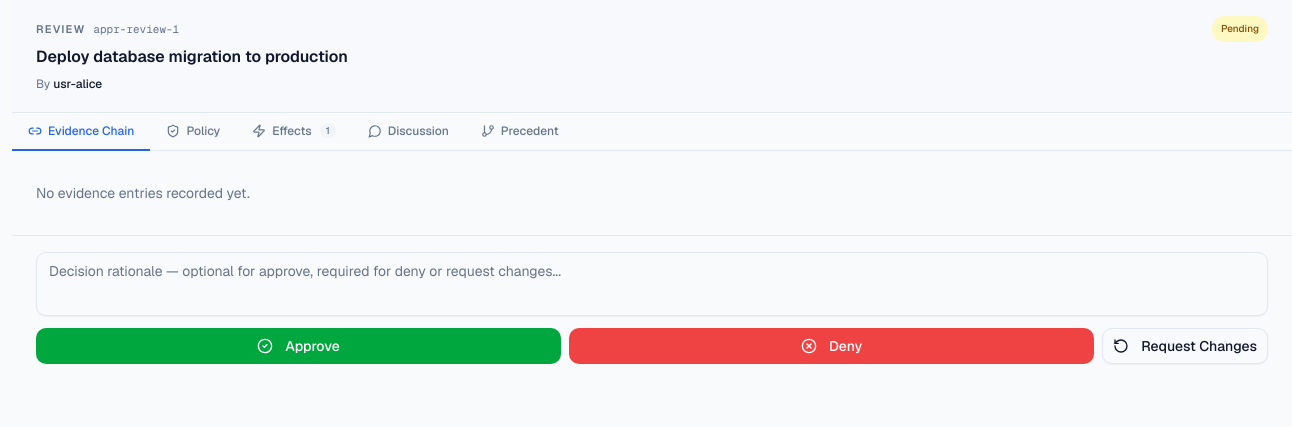
Test case: ApprovalReviewPanel — tabs › switches to effects tab and shows effects list
Click the tab "Effects 1".
click(294, 132)  # box [236,113,352,151]
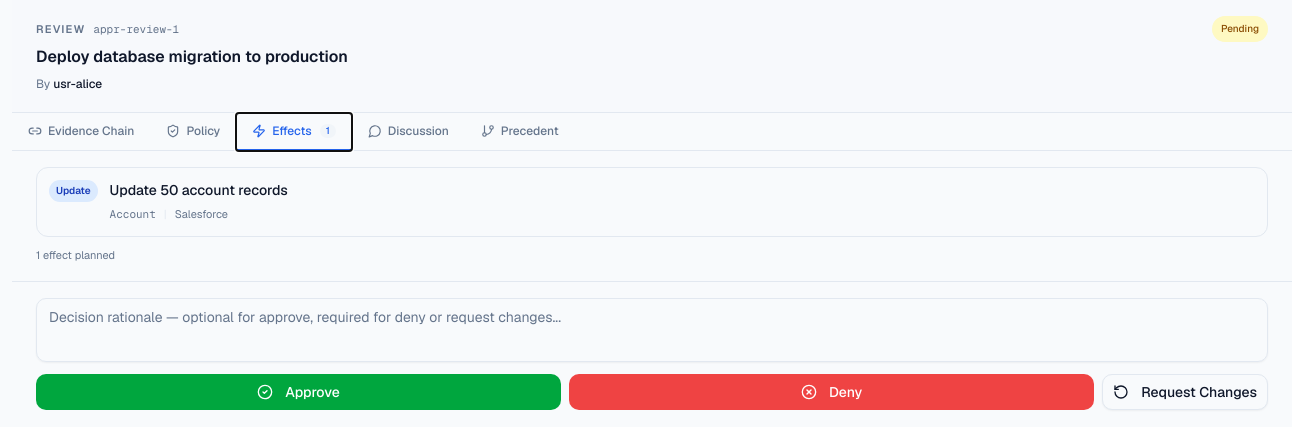
expect the text "Update 50 account records" is shown: met, box [110,181,288,199]
expect the text "1 effect planned" is shown: met, box [36,248,115,262]
